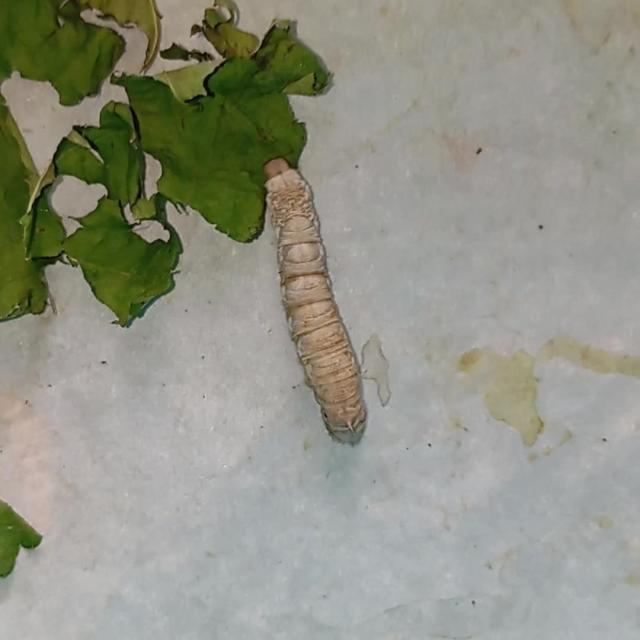Grasserie: (240, 132, 386, 452)
